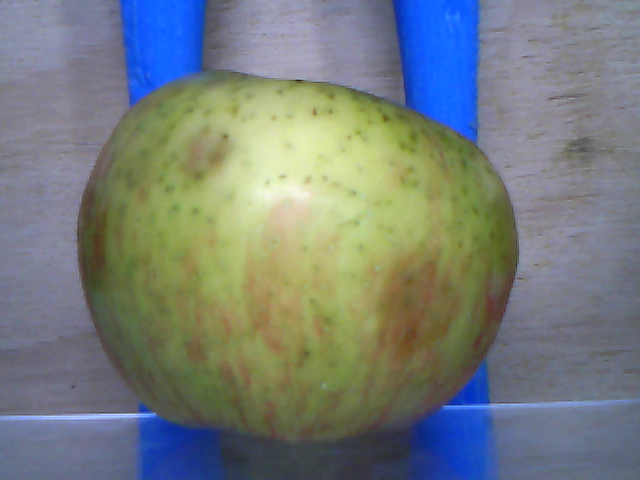bruise: (380, 251, 463, 366), (182, 127, 225, 176)
